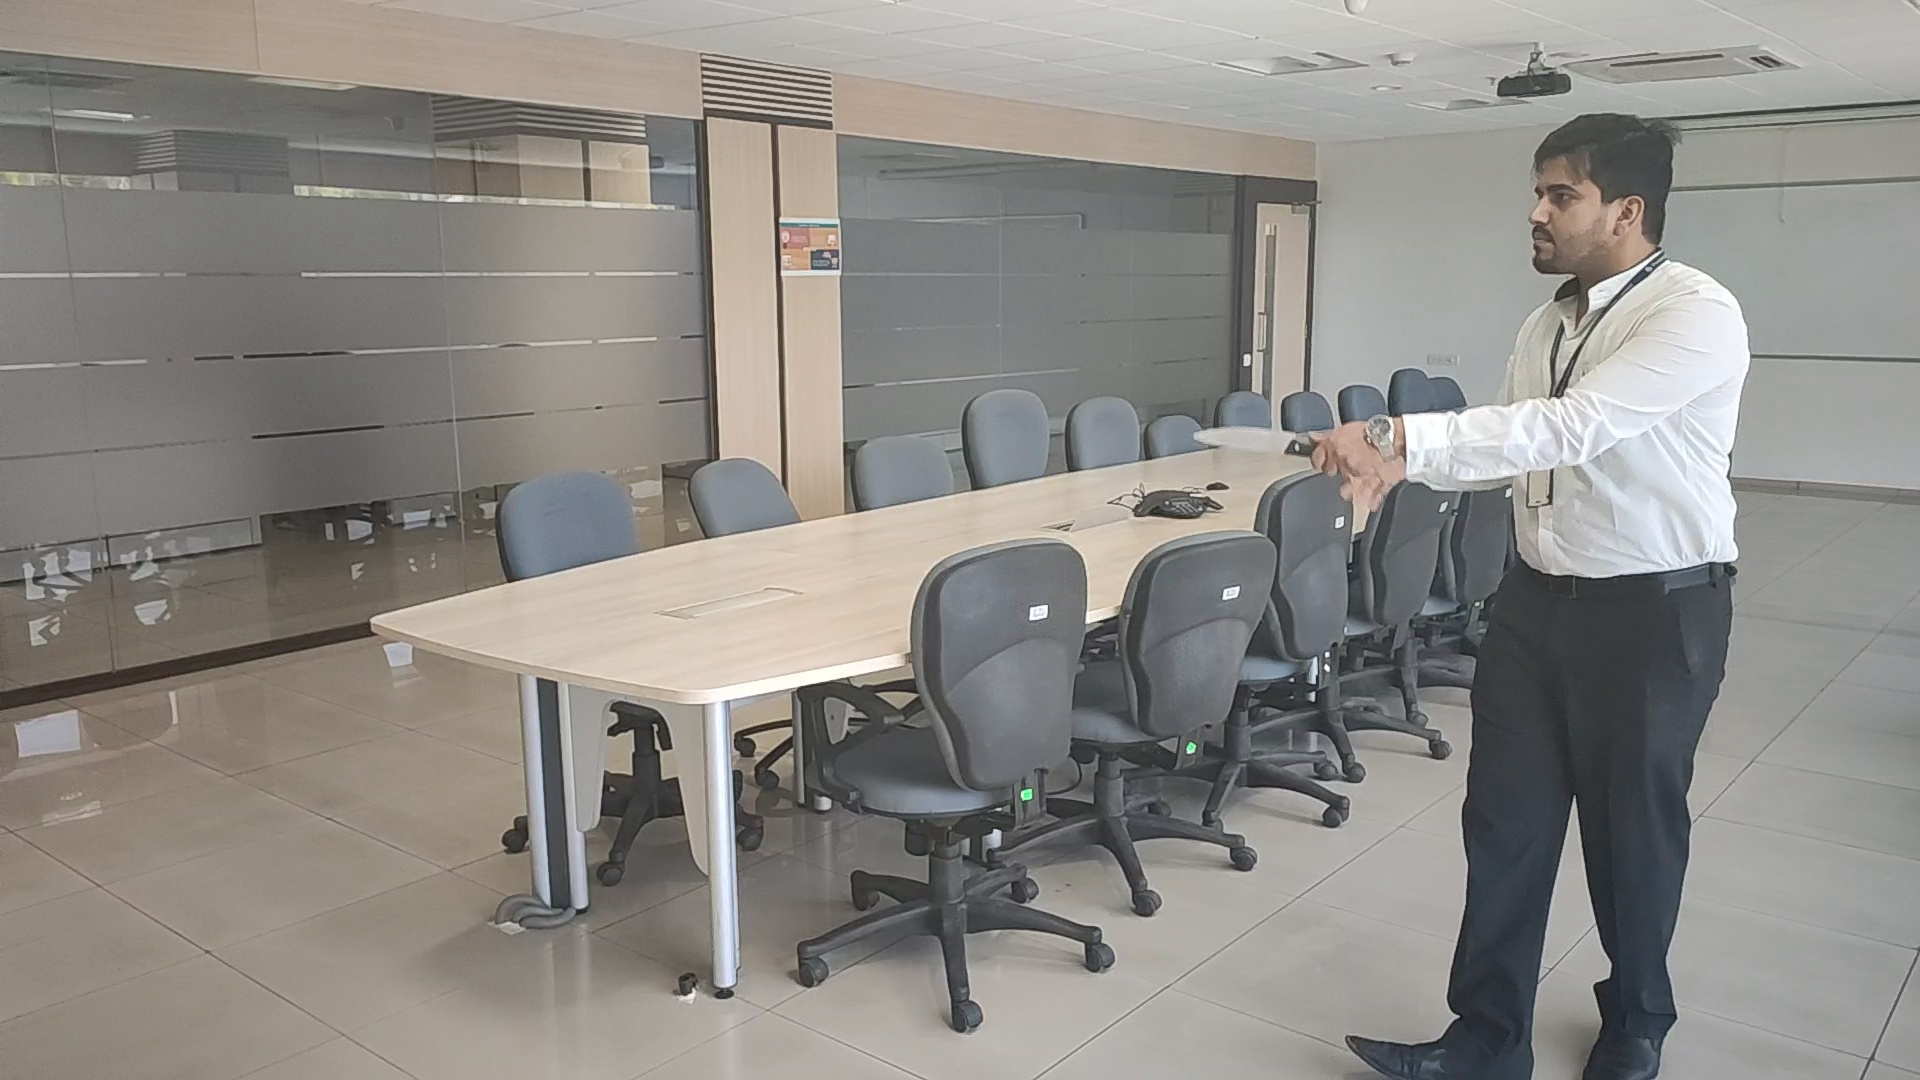knife: (1192, 426, 1305, 458)
